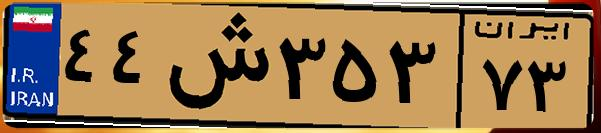3: (270, 28, 330, 110), (385, 28, 445, 110), (525, 38, 570, 115)
4: (57, 26, 110, 100), (110, 28, 158, 98)
5: (330, 28, 385, 110)
7: (475, 38, 525, 113)
ش: (158, 12, 270, 120)
